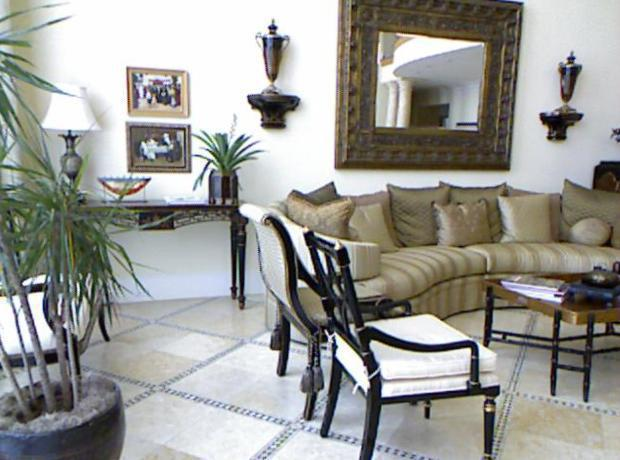Matera: (4, 4, 122, 450)
